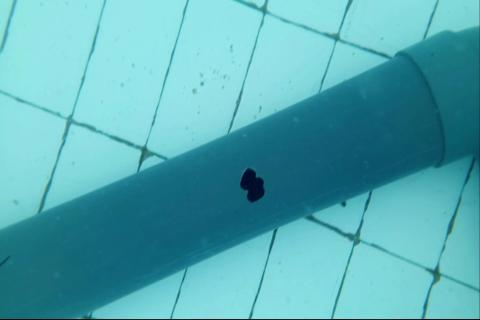kebocoran: (238, 165, 266, 204)
keretakan: (0, 254, 14, 269)
